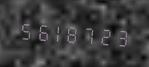eight: (65, 19, 80, 47)
five: (17, 16, 32, 44)
one: (49, 18, 64, 46)
seven: (81, 20, 96, 48)
six: (33, 17, 48, 45)
three: (113, 22, 128, 50)
two: (97, 21, 112, 49)
